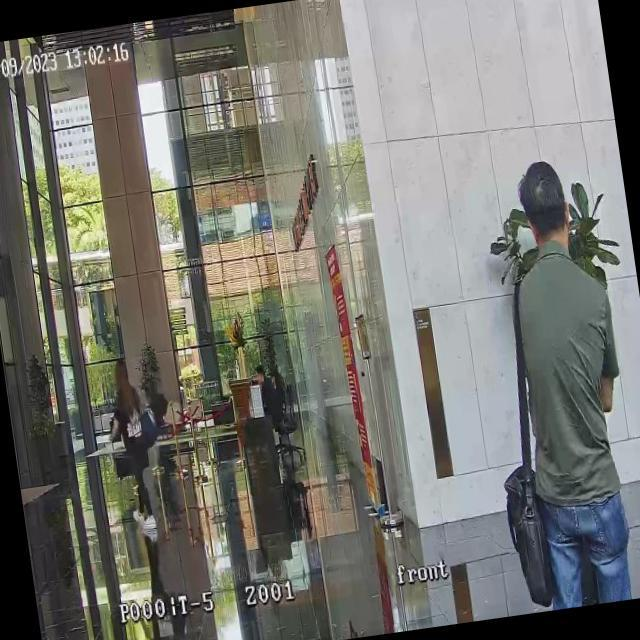person: (484, 156, 640, 606), (100, 356, 160, 535), (254, 363, 284, 426), (268, 367, 286, 408)
